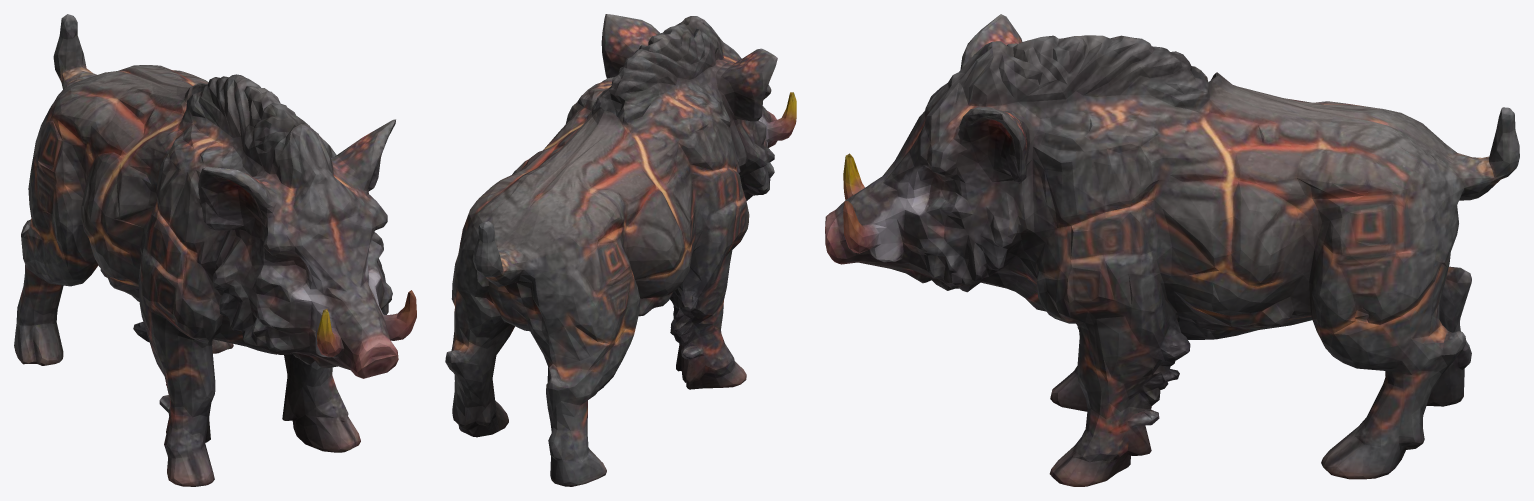
Rendered from lavaBoarling.glb.
3 views of the same model, side by side, from view 1: azimuth 30°, elevation 25°; view 2: azimuth 150°, elevation 25°; view 3: azimuth 270°, elevation 25° (orthographic). The views are drawn at different scales.
Visible parts, largest first — view 1: world; view 2: world; view 3: world.
Part boxes in pixels (x1=…): world: x1=14, y1=14, x2=416, y2=486; world: x1=445, y1=14, x2=796, y2=486; world: x1=825, y1=14, x2=1519, y2=486.
Size of the model in its own units: 0.3617 by 0.643 by 1.
Materials: 1 (1 with a texture image).
